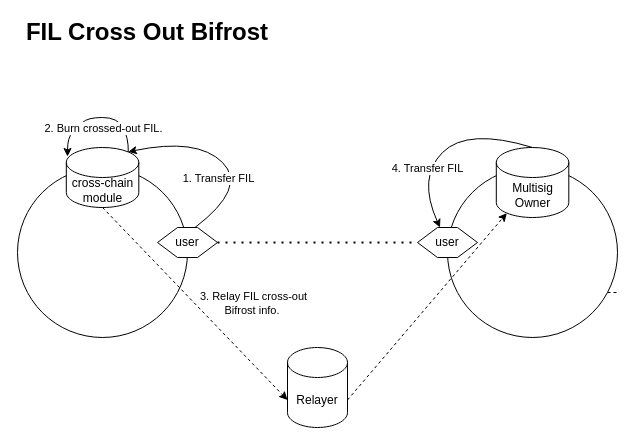
Some shapes in this 636 by 445 pixel diagram are drawn without their labels. The shapes that lost their labels are listed below. From the top down, each one's box as (x1, y1, x2, y2) in pixels, then its label:
(16, 166, 188, 338): Bifrost
(446, 166, 618, 338): Filecoin
